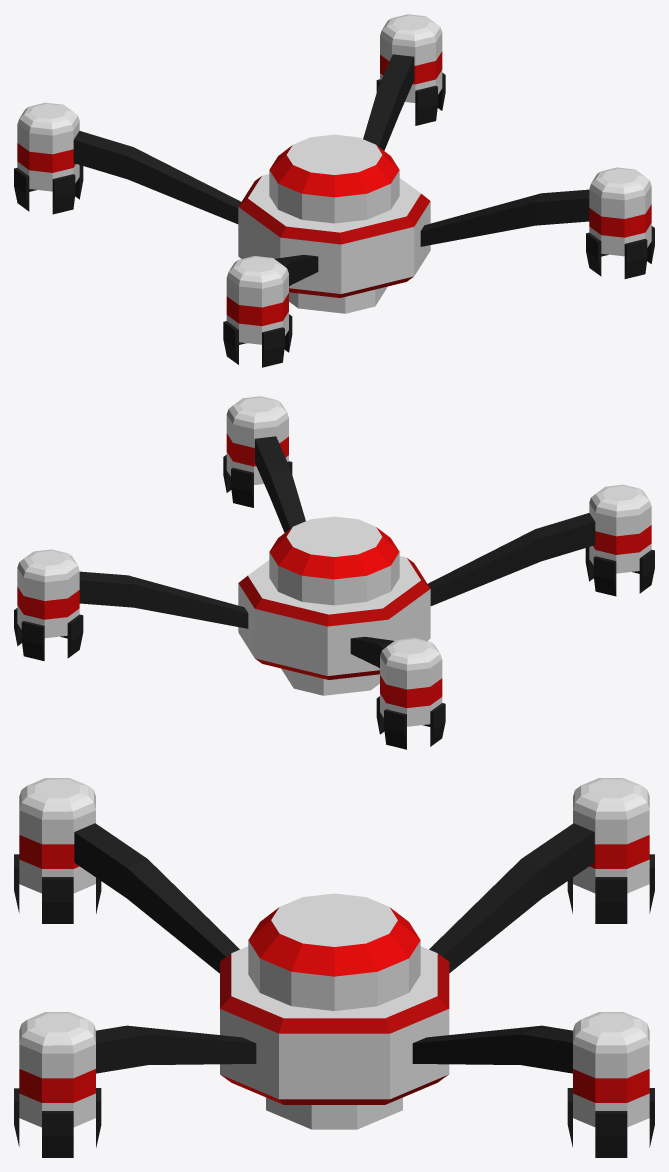
File: Drone.fbx
3 renders of one model, top to bottom at view 1: azimuth 30°, elevation 25°; view 2: azimuth 150°, elevation 25°; view 3: azimuth 270°, elevation 25°, orthographic. The views are drawn at different scales.
Parts seen in each view (by area): view 1: Drone; view 2: Drone; view 3: Drone.
Boxes of the visible parts, left/top/right/bottom form: Drone: left=14, top=14, right=654, bottom=367; Drone: left=14, top=396, right=654, bottom=749; Drone: left=14, top=778, right=654, bottom=1157.
Size of the model in its own units: 72.35 by 24.25 by 72.34.
